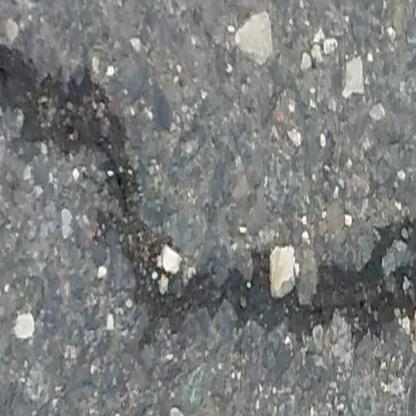Cracks: (0, 17, 416, 359)
